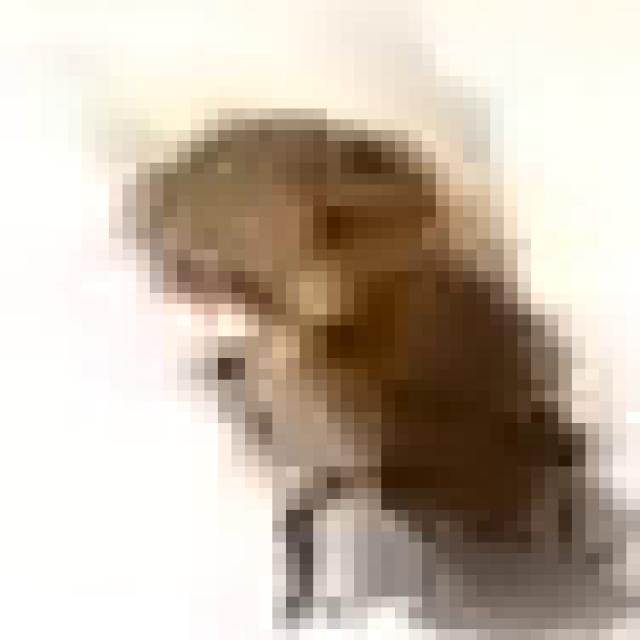honeybee: (89, 97, 632, 595)
